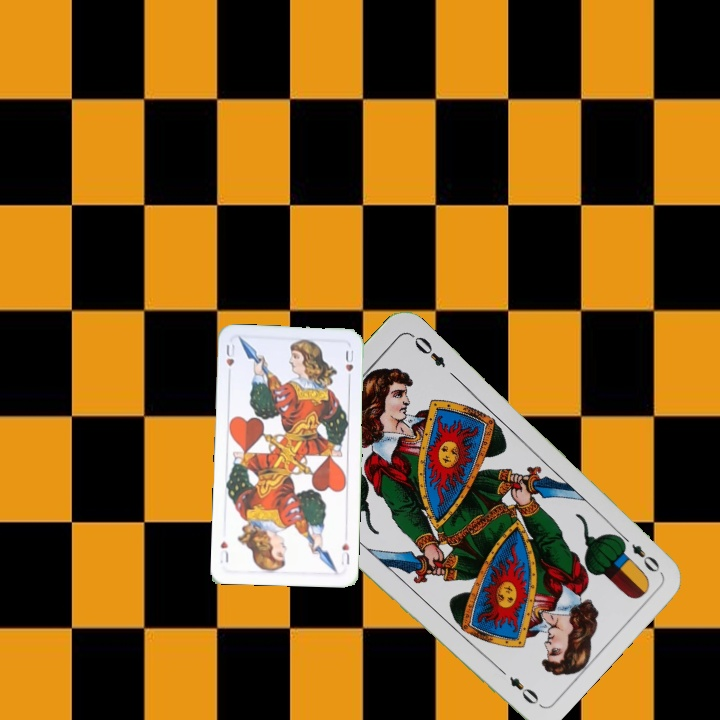EO: (615, 529, 663, 575)
HU: (222, 339, 238, 379), (337, 539, 352, 567)
